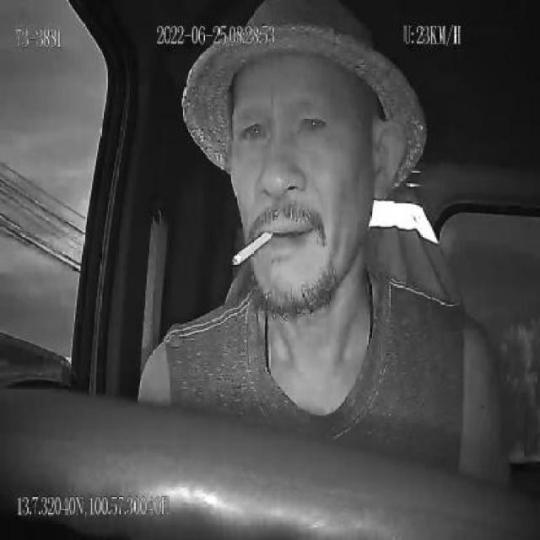smoking: (232, 230, 274, 267)
